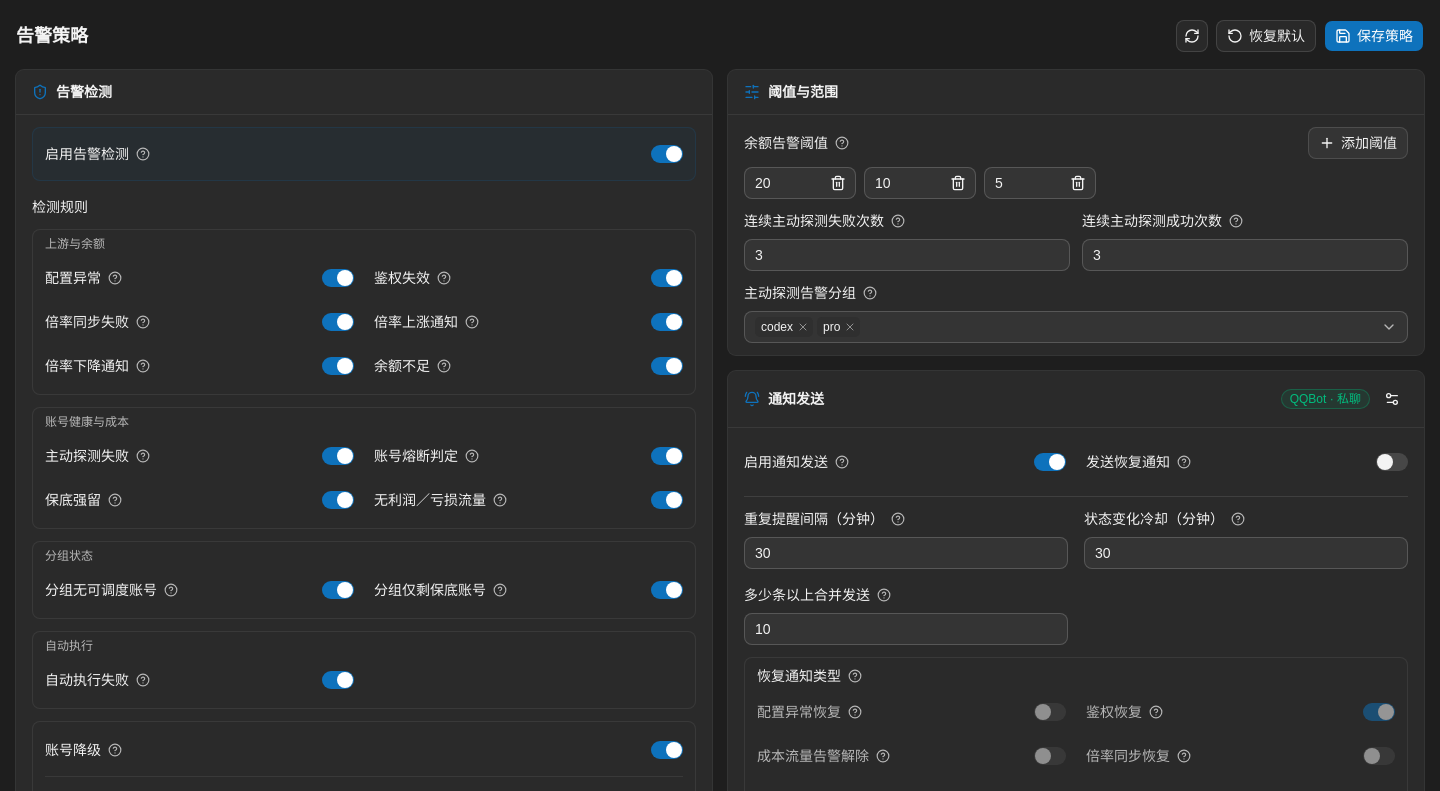
Test: 告警分组选择使用字典稳定 ID 顺序并保留原有选中状态
Click the dropdown named "主动探测告警分组" at (1076, 327), box [744, 311, 1408, 343]
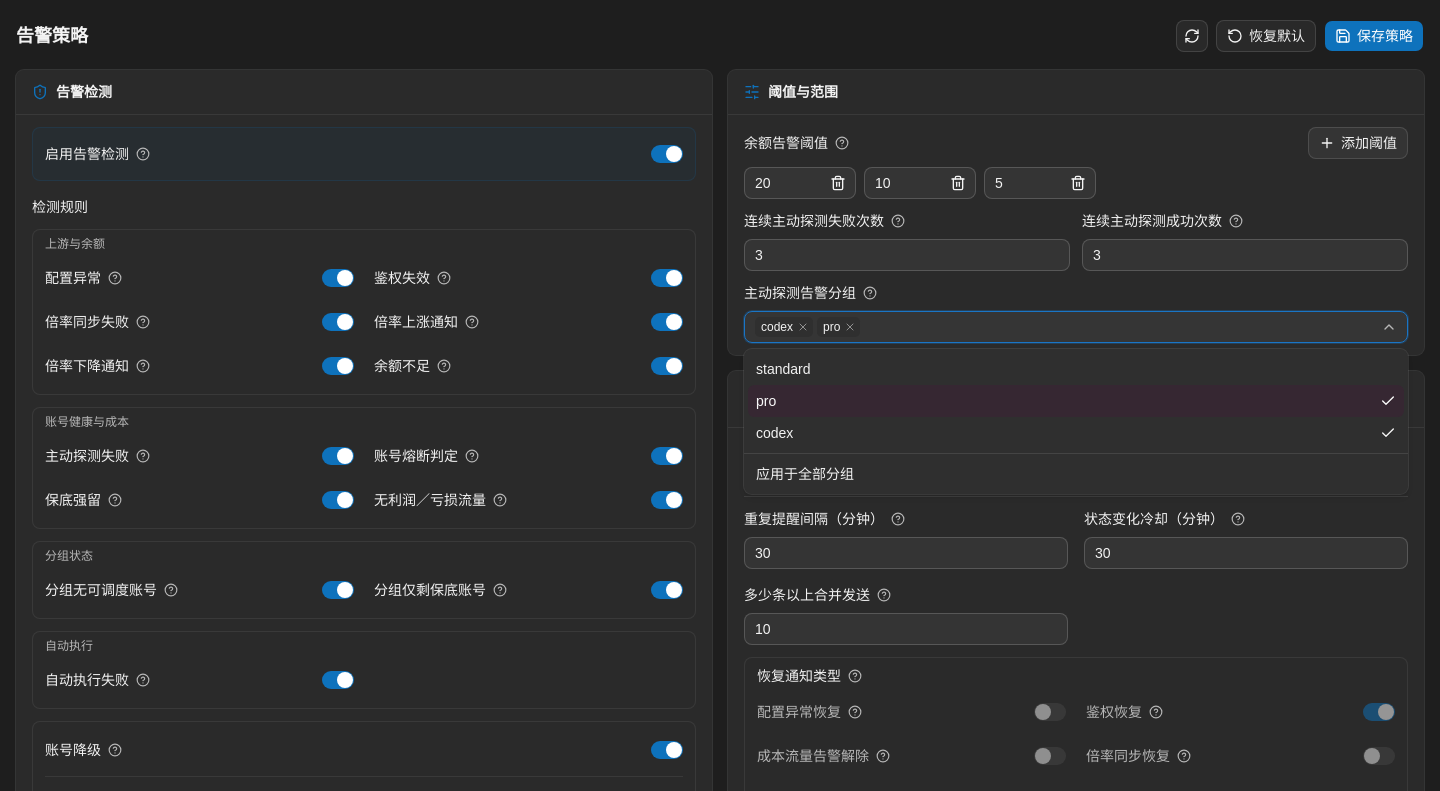
Result: the options read "standard", "pro", "codex", in this order at [756, 361, 810, 377]; [748, 385, 1404, 417]; [756, 425, 1396, 441]
